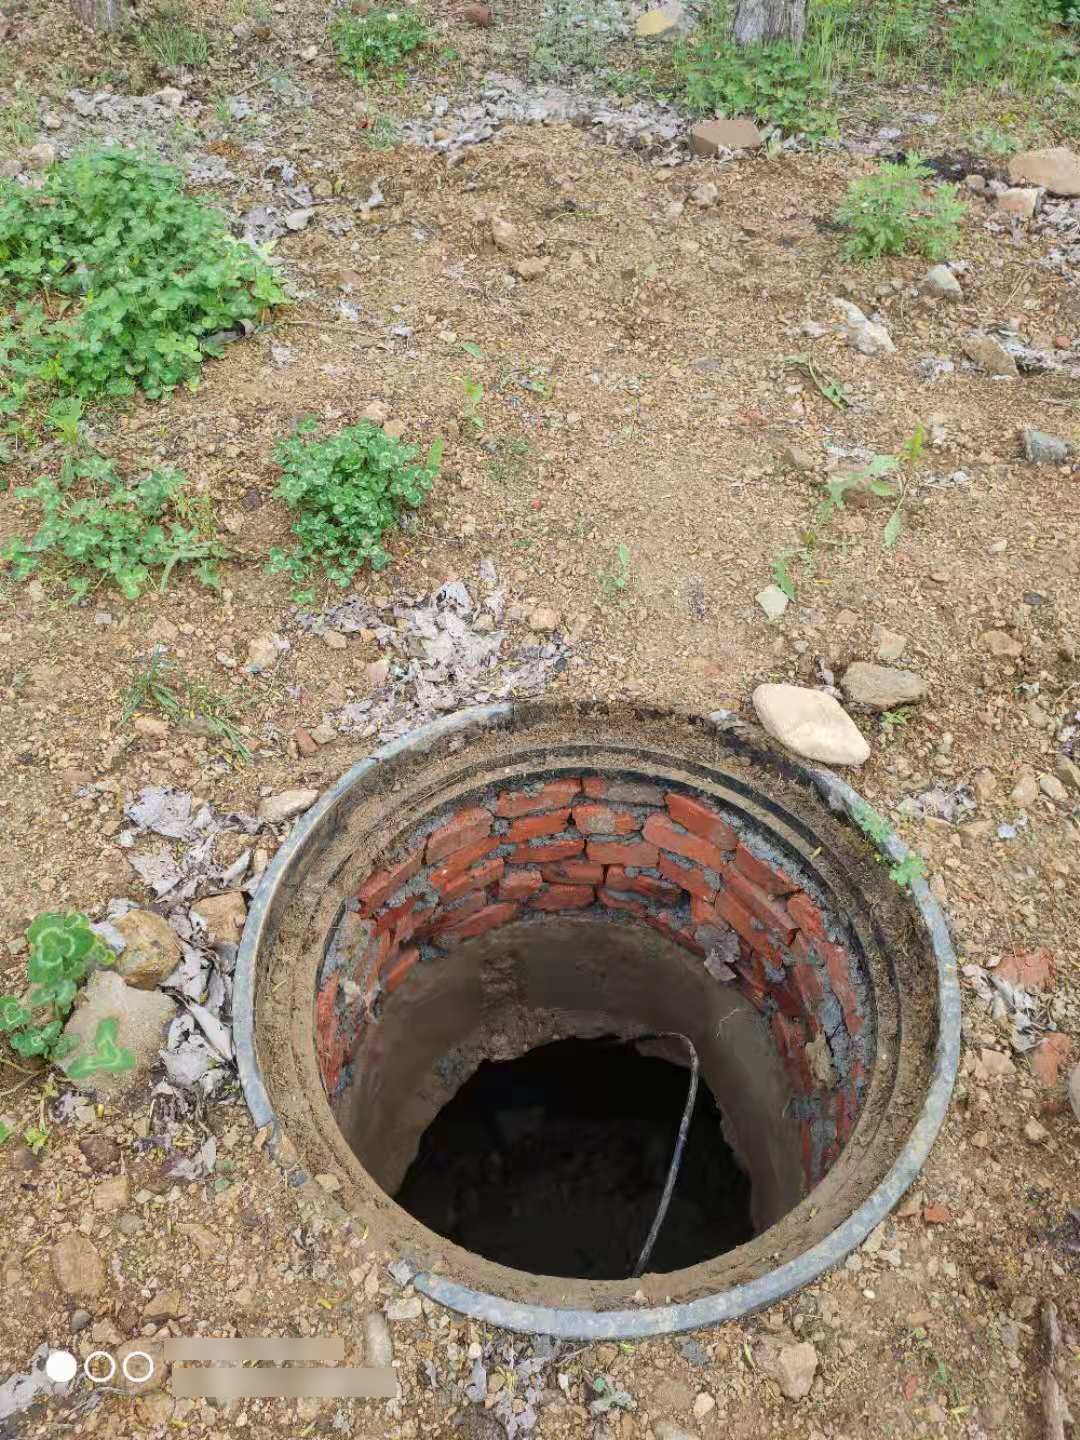lose: (237, 694, 969, 1341)
